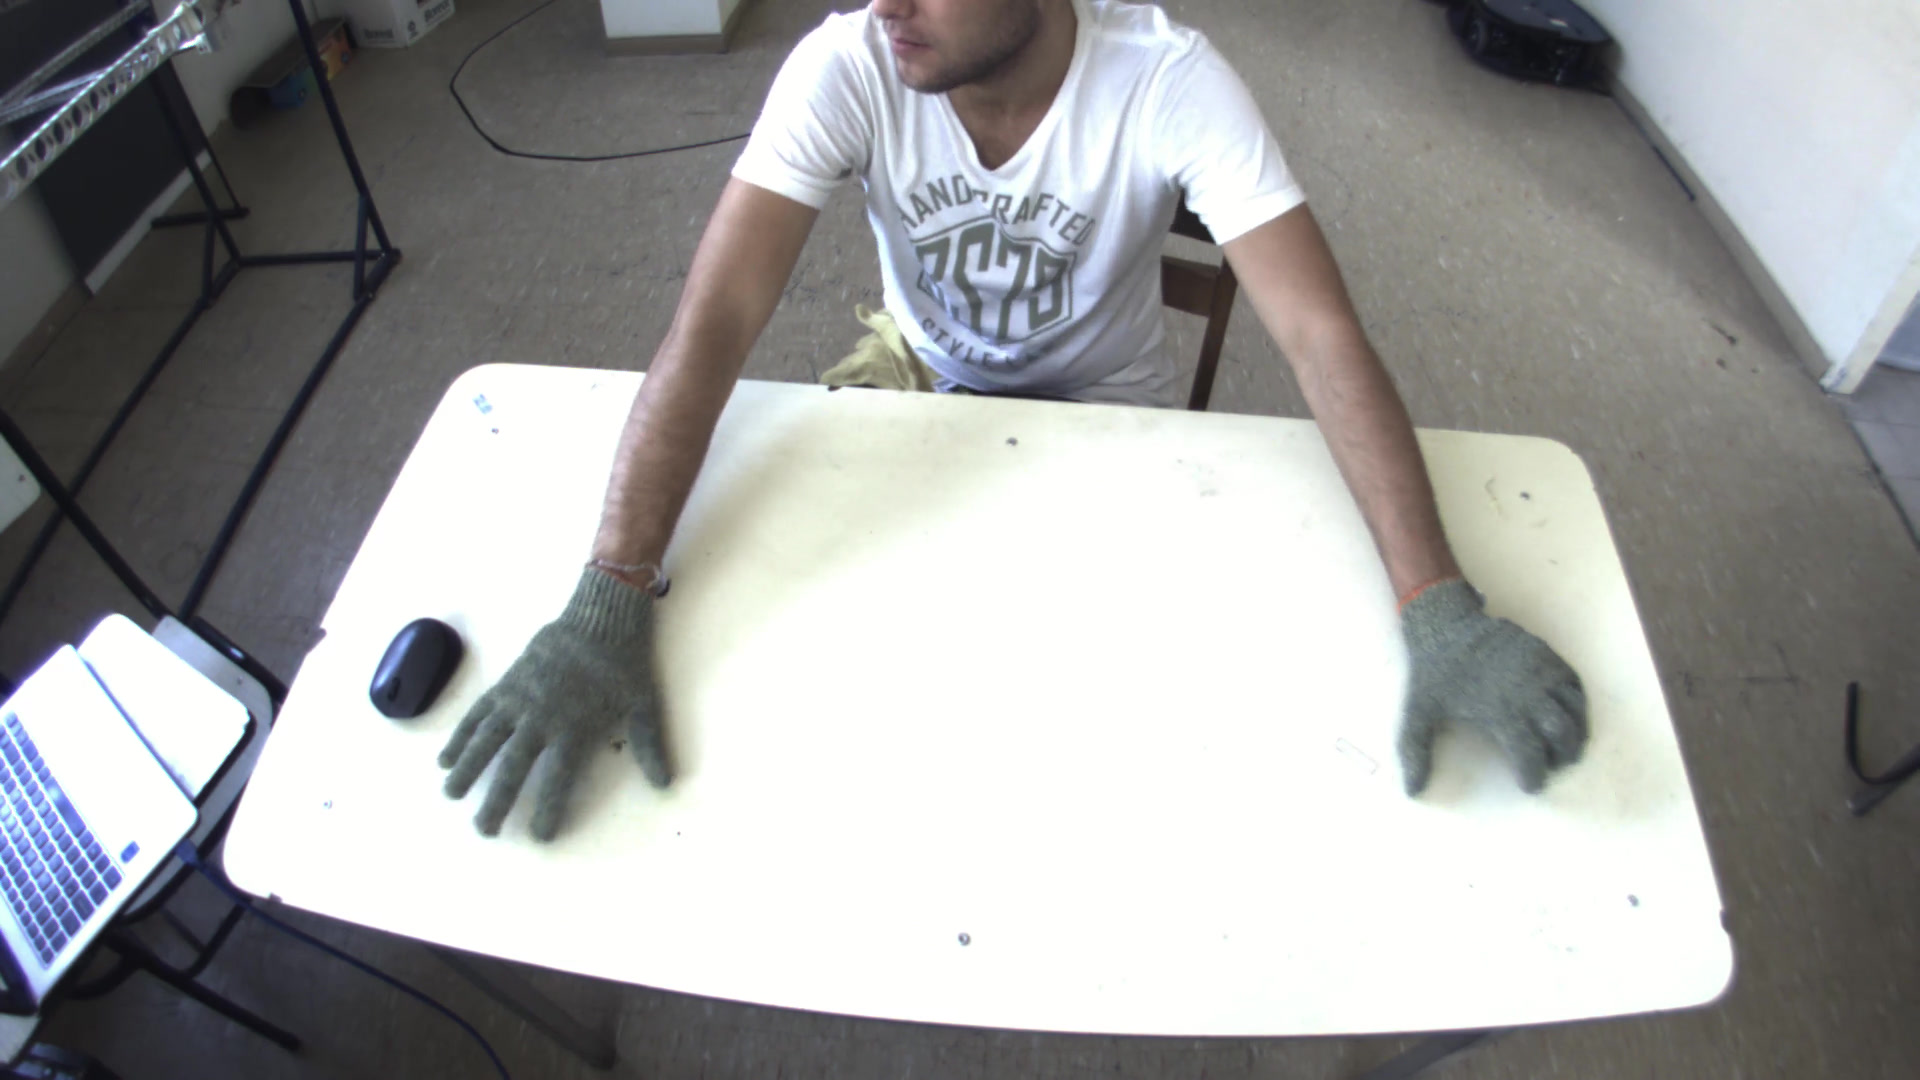hand: (418, 558, 676, 858), (1382, 579, 1601, 814)
